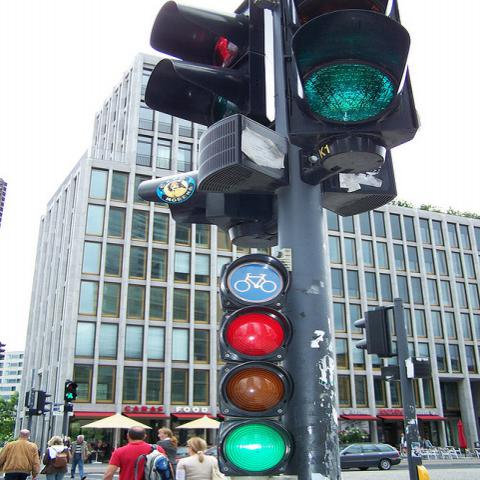car: (338, 442, 405, 470)
